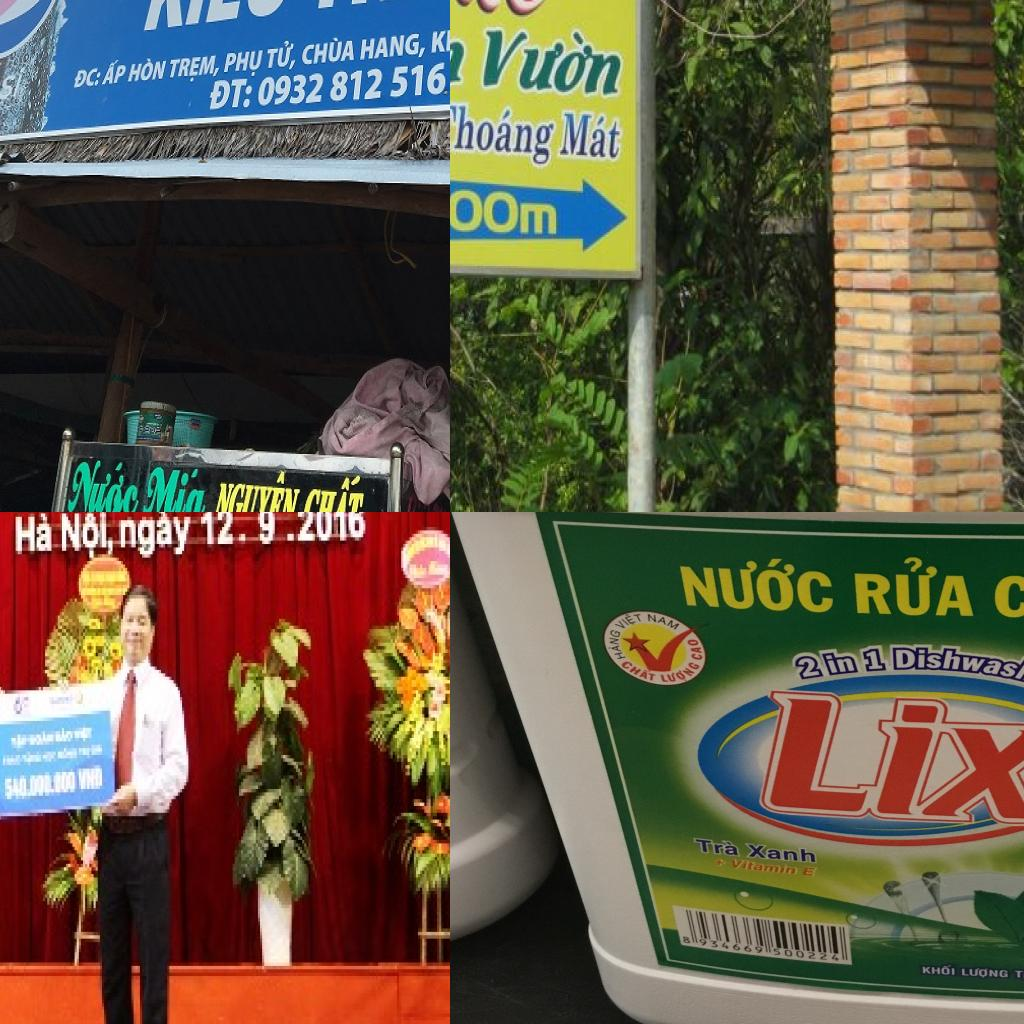text: (961, 546, 1024, 779), (897, 520, 984, 682), (475, 17, 634, 104), (790, 720, 870, 841), (256, 61, 448, 109), (450, 98, 559, 172), (790, 616, 868, 710), (794, 512, 870, 603), (143, 0, 302, 32), (554, 104, 622, 169), (64, 457, 142, 512), (211, 467, 306, 512), (116, 512, 194, 564), (140, 463, 212, 512), (60, 512, 117, 564), (1, 769, 79, 806), (285, 512, 367, 547), (299, 474, 369, 512), (943, 512, 1024, 542), (359, 33, 427, 64), (11, 512, 55, 557), (168, 54, 221, 86), (300, 36, 356, 66), (197, 512, 237, 550), (207, 79, 253, 111), (928, 816, 967, 852), (222, 50, 263, 79), (126, 57, 169, 84), (0, 69, 25, 115), (911, 701, 948, 730), (924, 853, 958, 884), (916, 727, 956, 753), (267, 41, 297, 72), (907, 681, 944, 703), (101, 58, 129, 87), (256, 512, 277, 550), (858, 865, 887, 890), (864, 834, 889, 863), (887, 876, 927, 894), (72, 68, 102, 90), (79, 766, 104, 792), (430, 23, 450, 55), (898, 816, 930, 834), (235, 530, 249, 548)
